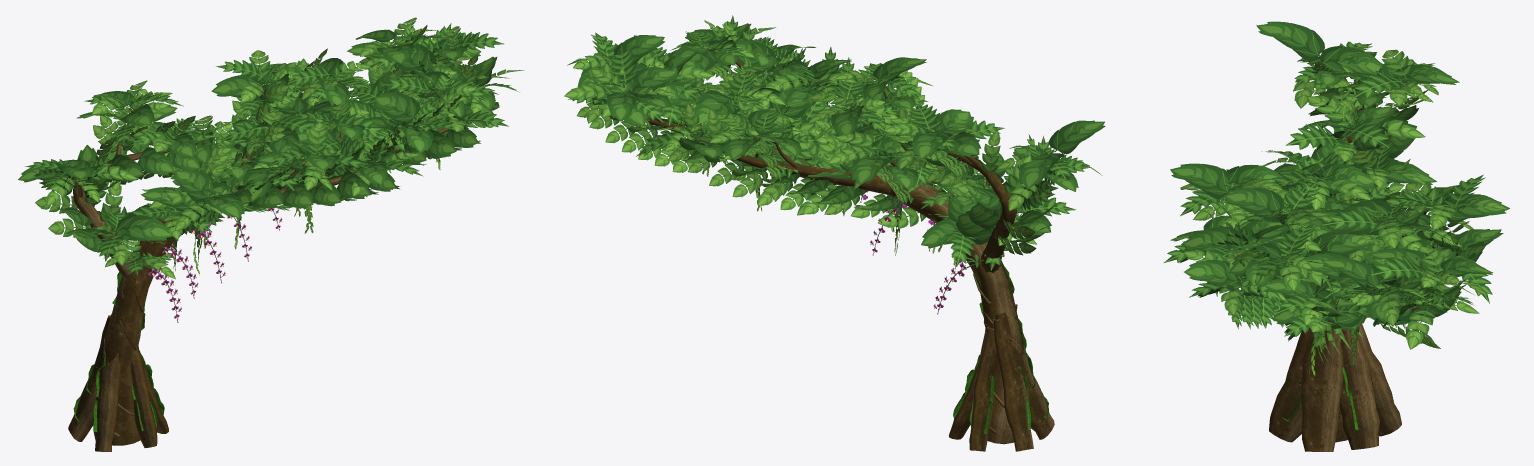
The picture shows the model from 3 angles, left to right: view 1: azimuth 30°, elevation 25°; view 2: azimuth 150°, elevation 25°; view 3: azimuth 270°, elevation 25°; orthographic projection. The views are drawn at different scales.
Parts seen in each view (by area): view 1: Mesh_BoughLeaves, Mesh_BoughBark, Mesh_OrchidBlossoms, Mesh_BoughMoss; view 2: Mesh_BoughLeaves, Mesh_BoughBark, Mesh_BoughMoss, Mesh_OrchidBlossoms; view 3: Mesh_BoughLeaves, Mesh_BoughBark.
Boxes of the visible parts, x1=… form: Mesh_BoughLeaves: x1=18, y1=17, x2=524, y2=279; Mesh_BoughBark: x1=68, y1=92, x2=448, y2=451; Mesh_OrchidBlossoms: x1=131, y1=208, x2=282, y2=322; Mesh_BoughMoss: x1=73, y1=154, x2=342, y2=432; Mesh_BoughLeaves: x1=564, y1=15, x2=1105, y2=270; Mesh_BoughBark: x1=646, y1=50, x2=1054, y2=451; Mesh_BoughMoss: x1=648, y1=115, x2=1048, y2=433; Mesh_OrchidBlossoms: x1=860, y1=190, x2=984, y2=314; Mesh_BoughLeaves: x1=1164, y1=21, x2=1509, y2=376; Mesh_BoughBark: x1=1269, y1=78, x2=1427, y2=451.
Bounding box in the file's own units: 12.49 × 7.66 × 6.58.
4 materials, 4 textured.
